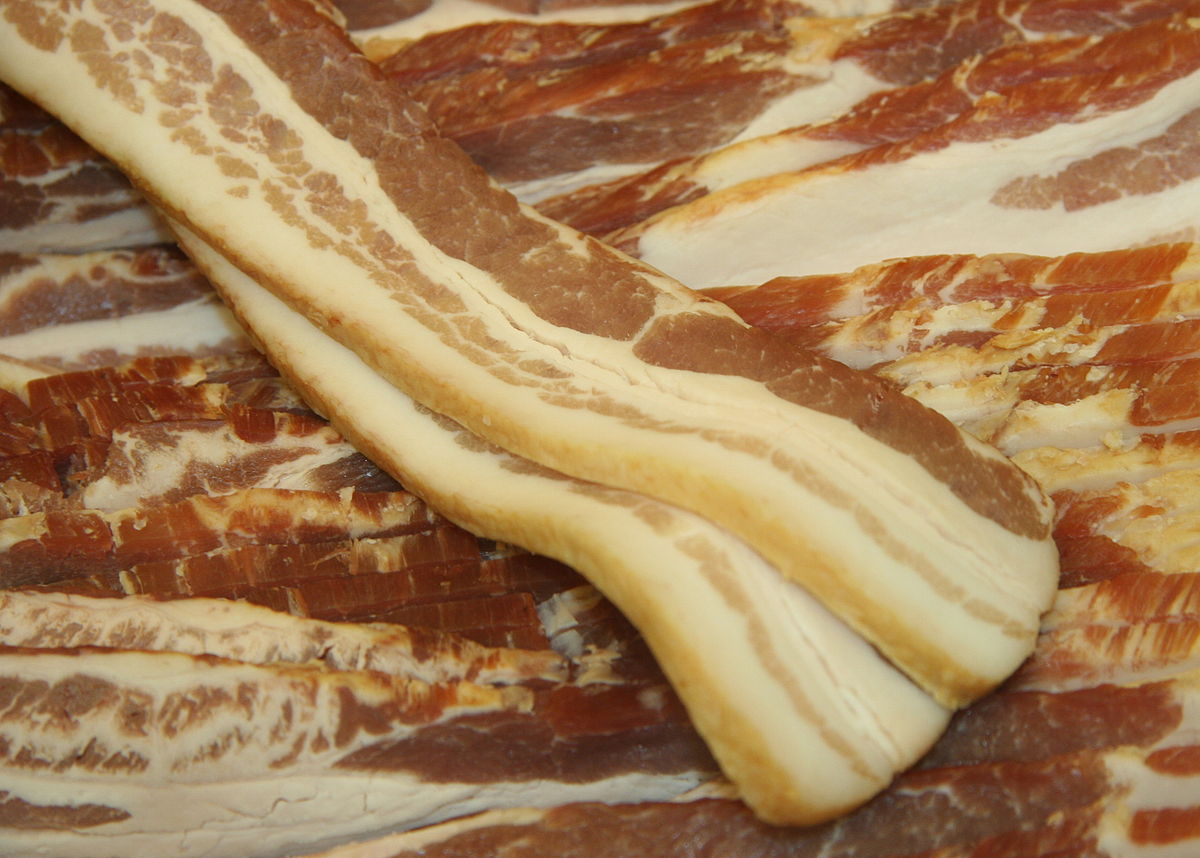bacon: (211, 48, 1100, 758)
